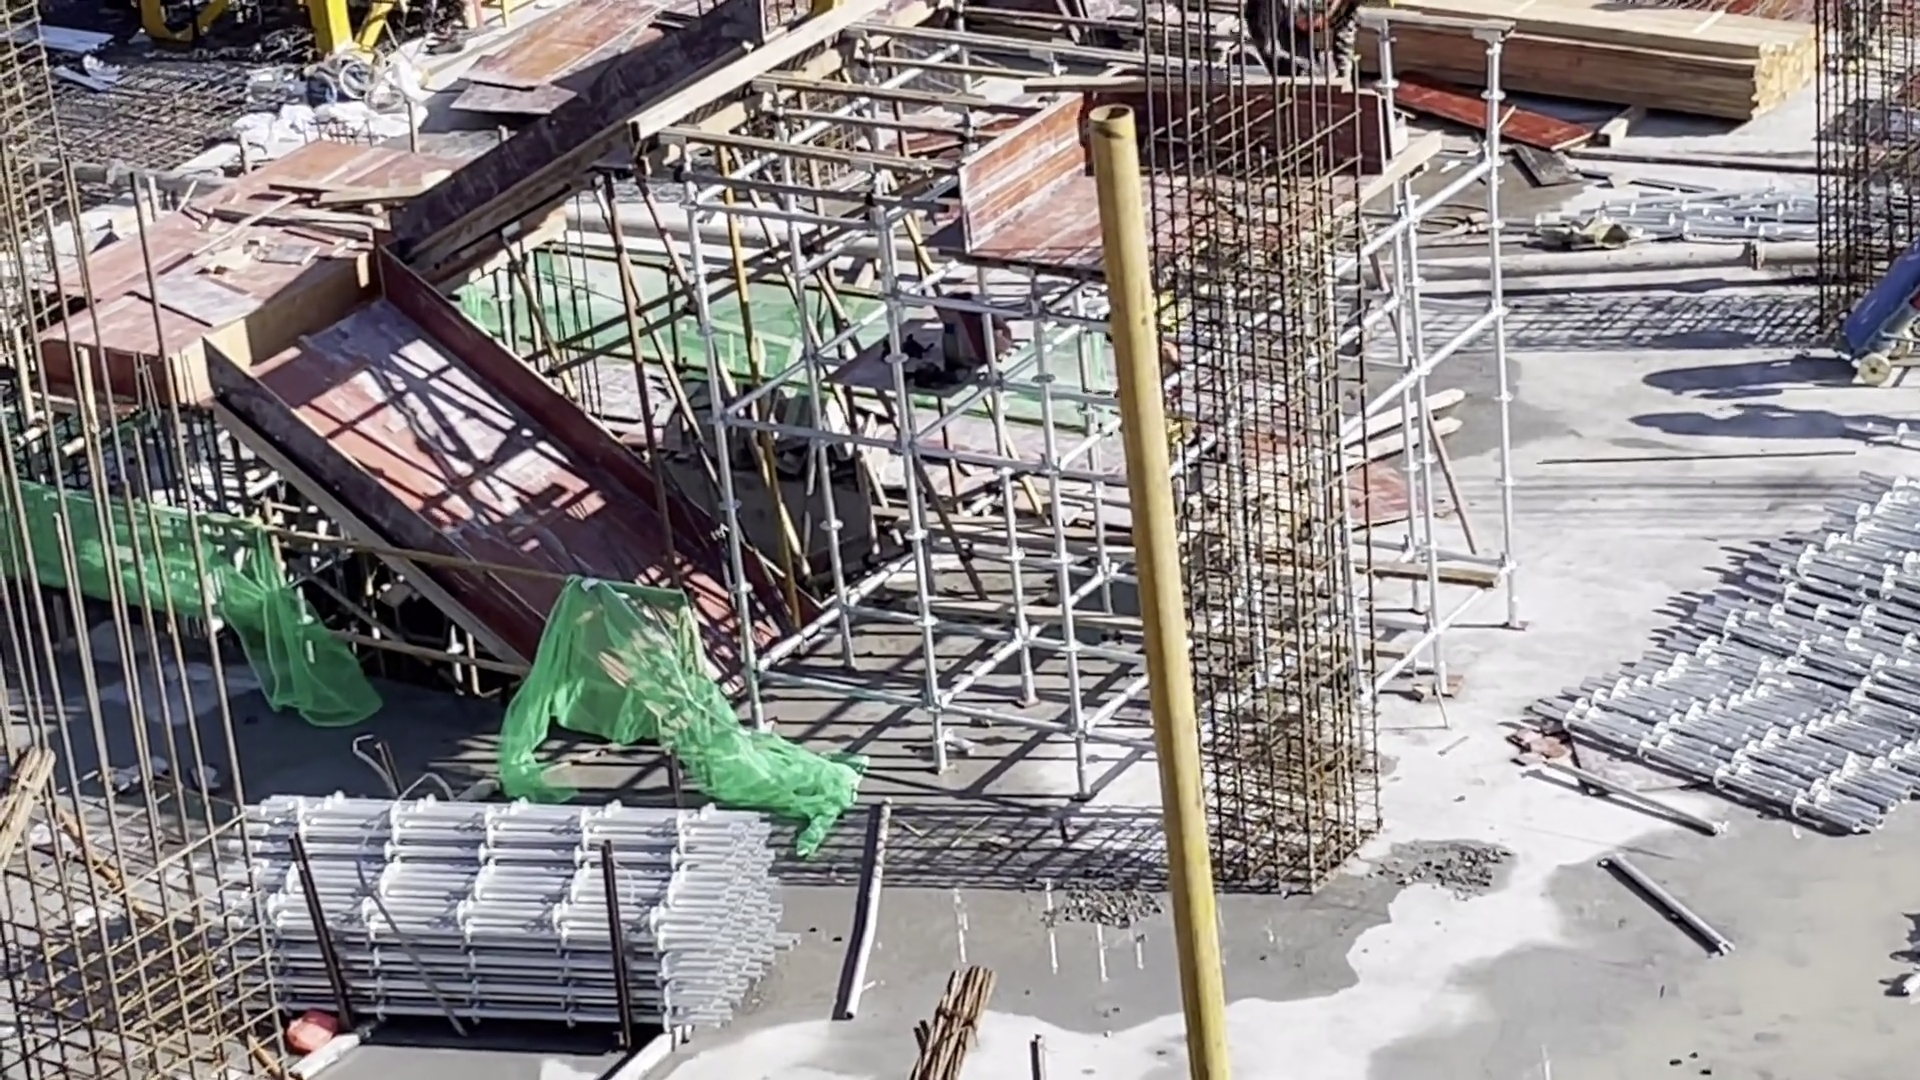person: (1238, 1, 1367, 79)
scaffold: (207, 790, 804, 1042), (1531, 481, 1920, 863)
wood: (1361, 3, 1817, 128)
